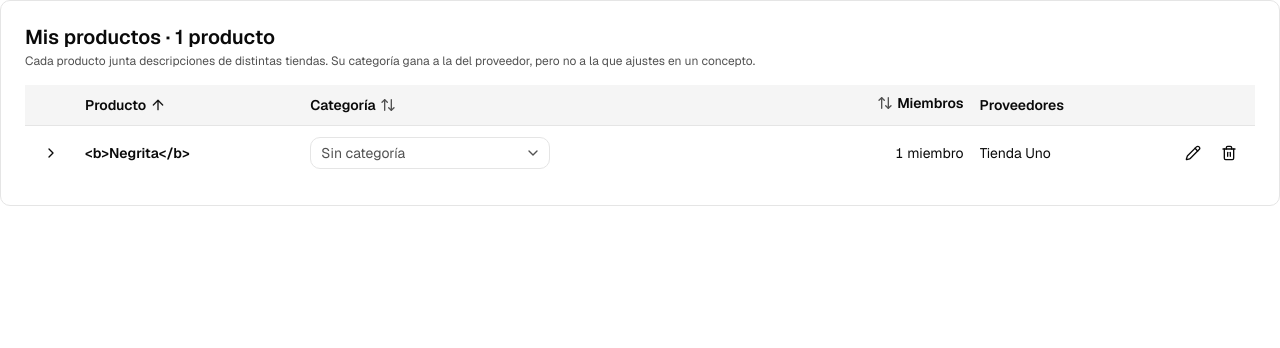
Test: members sub-table (D-14) › renders vendor text as plain text, never as markup (T-04-19)
Click the button named "Ver miembros de" at coordinates (51, 153), box [33,135,69,171]
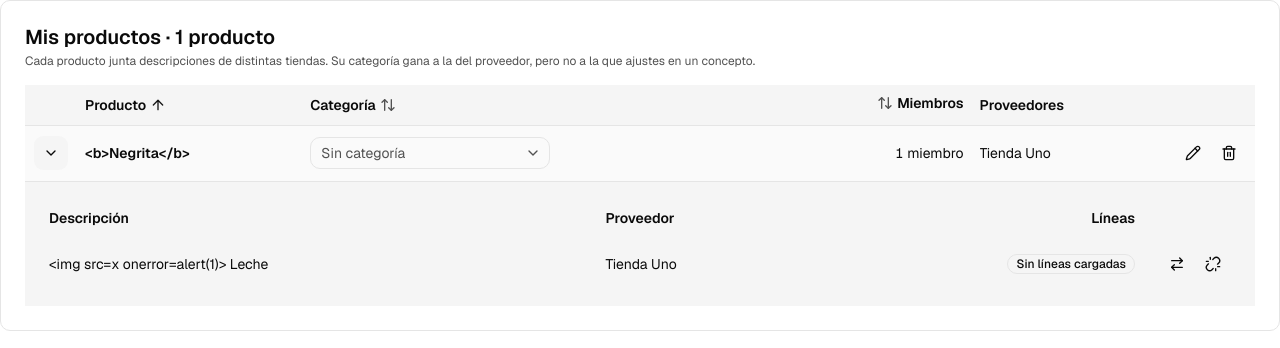
Expected: the text "<img src=x onerror=alert(1)> Leche" is shown, [41,238,597,290]
